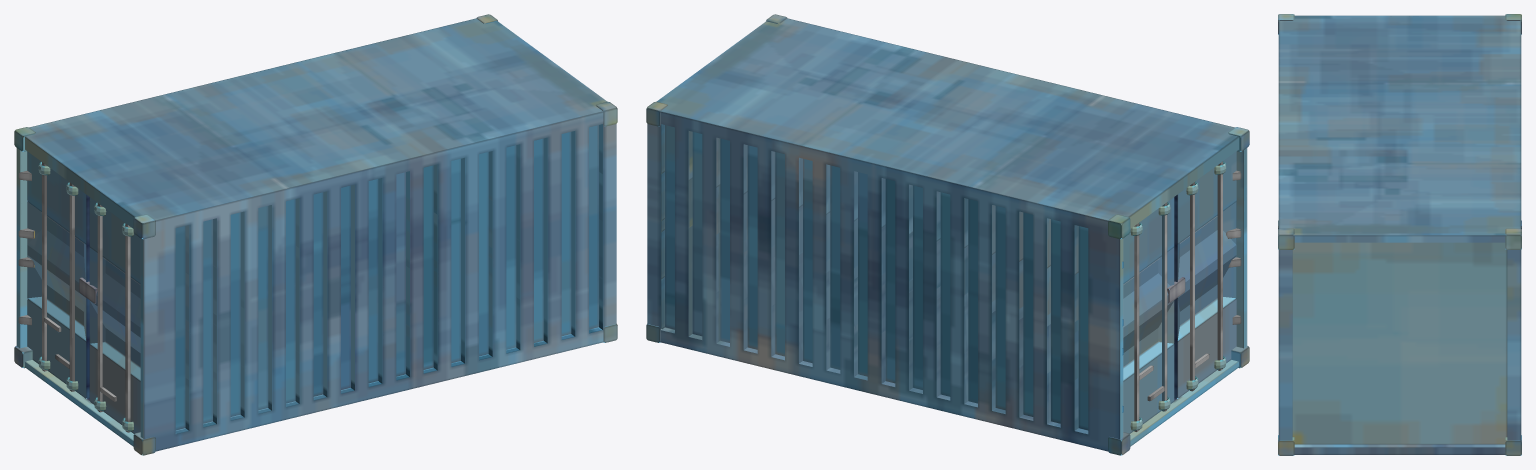
File: CargoContainer.fbx
The picture shows the model from 3 angles, left to right: view 1: azimuth 30°, elevation 25°; view 2: azimuth 150°, elevation 25°; view 3: azimuth 270°, elevation 25°; orthographic projection. The views are drawn at different scales.
Parts seen in each view (by area): view 1: cuboid, cuboid_11, cuboid_13, cuboid_12, cuboid_10; view 2: cuboid, cuboid_10, cuboid_13, cuboid_11, cuboid_12; view 3: cuboid, cuboid_21, cuboid_23, cuboid_22, cuboid_24.
Part boxes in pixels (x1=…): cuboid: x1=16, y1=18, x2=616, y2=451; cuboid_11: x1=69, y1=182, x2=74, y2=391; cuboid_13: x1=125, y1=223, x2=130, y2=432; cuboid_12: x1=97, y1=203, x2=102, y2=412; cuboid_10: x1=42, y1=162, x2=46, y2=371; cuboid: x1=647, y1=18, x2=1247, y2=451; cuboid_10: x1=1134, y1=223, x2=1139, y2=431; cuboid_13: x1=1217, y1=161, x2=1222, y2=370; cuboid_11: x1=1162, y1=202, x2=1167, y2=411; cuboid_12: x1=1190, y1=182, x2=1194, y2=391; cuboid: x1=1278, y1=15, x2=1521, y2=454; cuboid_21: x1=1278, y1=228, x2=1294, y2=249; cuboid_23: x1=1505, y1=228, x2=1521, y2=249; cuboid_22: x1=1278, y1=435, x2=1294, y2=455; cuboid_24: x1=1505, y1=435, x2=1521, y2=455.
Bounding box in the file's own units: 216 × 101 × 101.
Materials: 1 (1 with a texture image).
